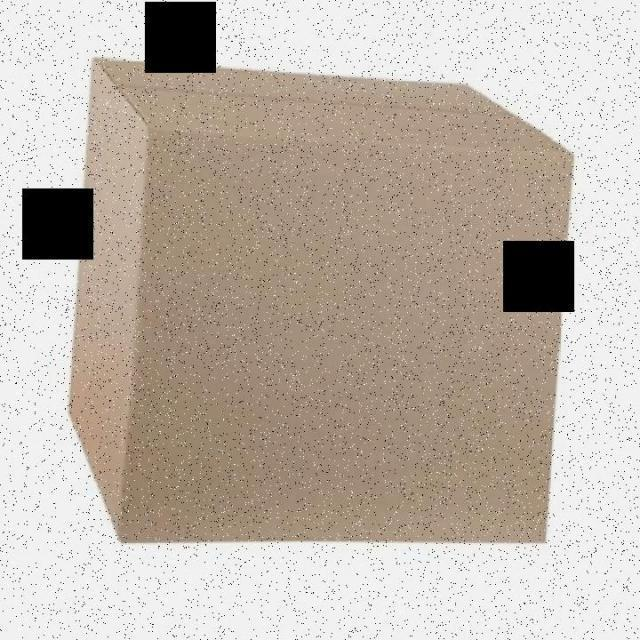box: (66, 55, 574, 548)
